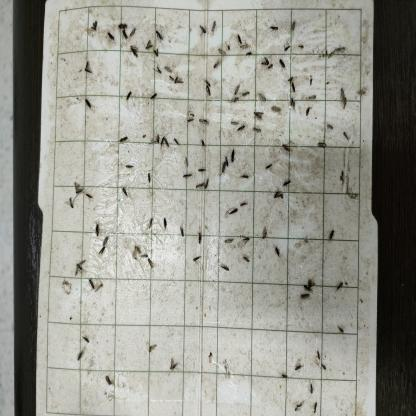prays_oleae: (72, 177, 95, 202), (300, 277, 322, 299), (118, 21, 139, 44), (80, 94, 100, 115), (237, 169, 255, 190), (334, 274, 348, 300), (223, 200, 238, 223), (80, 59, 98, 78), (71, 260, 90, 278), (238, 232, 253, 254), (276, 365, 292, 385), (216, 261, 235, 277), (263, 22, 280, 39), (115, 129, 131, 147), (240, 251, 256, 269), (191, 253, 206, 271), (259, 154, 274, 172), (128, 45, 146, 59), (336, 90, 350, 108), (166, 358, 180, 376), (168, 75, 188, 87), (88, 22, 103, 38), (250, 105, 266, 120), (96, 247, 112, 262), (155, 60, 167, 79), (277, 137, 292, 152), (297, 294, 313, 308), (123, 159, 137, 175), (289, 76, 300, 96), (203, 175, 214, 195), (119, 185, 133, 200), (81, 334, 96, 348), (123, 86, 135, 103), (63, 200, 80, 212), (324, 228, 336, 245), (223, 235, 234, 253), (238, 196, 249, 214), (152, 25, 166, 39), (334, 324, 348, 338), (194, 164, 210, 176), (102, 370, 114, 386), (262, 223, 271, 244), (257, 92, 268, 109), (194, 23, 208, 36), (320, 134, 327, 160), (152, 47, 166, 60), (146, 257, 158, 272), (71, 356, 89, 366), (199, 116, 210, 132), (281, 179, 294, 192), (146, 218, 158, 232), (274, 191, 288, 203), (270, 248, 284, 260), (144, 341, 158, 353), (236, 122, 247, 137), (160, 136, 170, 152), (163, 216, 173, 232), (195, 176, 204, 193), (92, 221, 102, 236), (150, 87, 160, 102), (198, 139, 208, 154), (217, 49, 228, 62), (106, 34, 116, 48), (230, 81, 240, 95), (232, 32, 242, 46), (303, 105, 313, 119), (229, 149, 239, 163), (130, 242, 140, 256), (181, 154, 191, 168), (221, 156, 226, 184), (145, 168, 152, 188), (210, 14, 216, 36), (260, 61, 273, 71), (182, 173, 194, 183), (291, 400, 304, 409), (196, 231, 204, 245), (344, 134, 352, 148), (140, 250, 148, 264), (212, 61, 222, 72), (228, 116, 239, 126), (278, 58, 287, 70), (253, 123, 262, 135), (288, 366, 306, 372), (309, 403, 321, 412), (224, 155, 231, 170), (88, 278, 96, 291), (244, 49, 256, 57), (270, 104, 278, 116), (292, 19, 297, 38), (242, 91, 251, 101), (307, 381, 315, 392), (230, 96, 240, 104), (324, 126, 334, 134), (144, 42, 154, 50), (186, 115, 194, 124), (172, 134, 177, 148), (312, 351, 322, 358), (206, 83, 212, 94), (289, 97, 295, 108), (180, 228, 187, 237), (283, 42, 290, 50)
